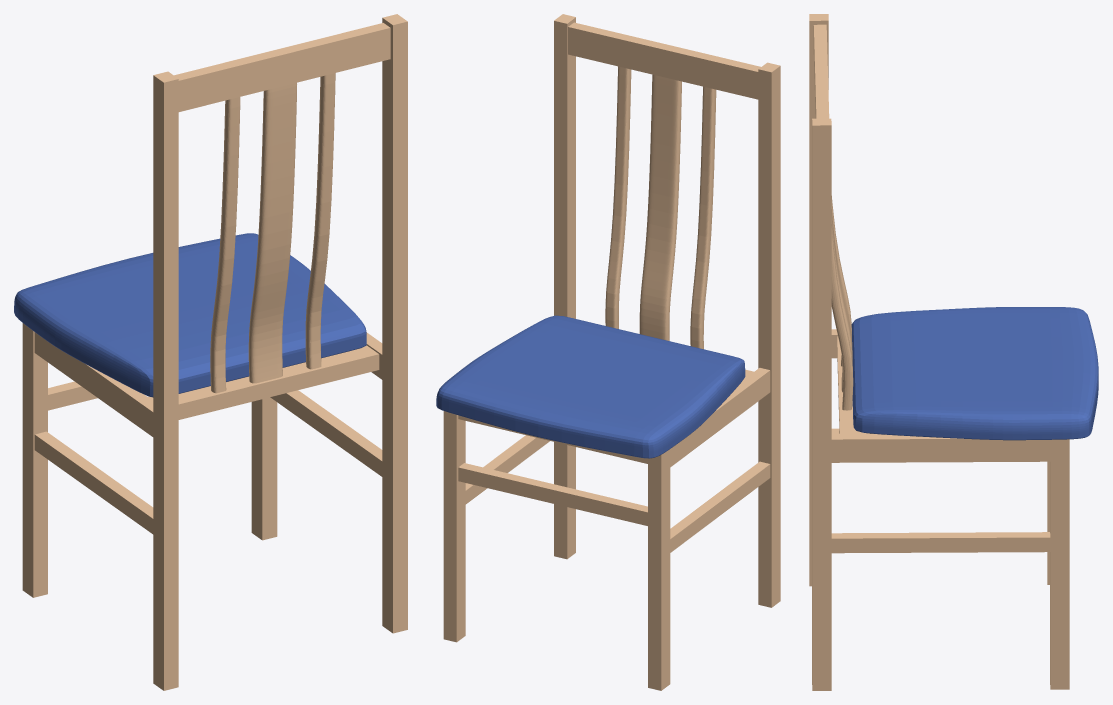
File: chair-1.fbx
3 views of the same model, side by side, from view 1: azimuth 30°, elevation 25°; view 2: azimuth 150°, elevation 25°; view 3: azimuth 270°, elevation 25° (orthographic). The views are drawn at different scales.
Visible parts, largest first — view 1: Cube.134; view 2: Cube.134; view 3: Cube.134.
Part boxes in pixels (x1=…): Cube.134: x1=14, y1=14, x2=407, y2=690; Cube.134: x1=436, y1=14, x2=780, y2=690; Cube.134: x1=809, y1=14, x2=1098, y2=690.
Size of the model in its own units: 42.5 by 97 by 45.02.
